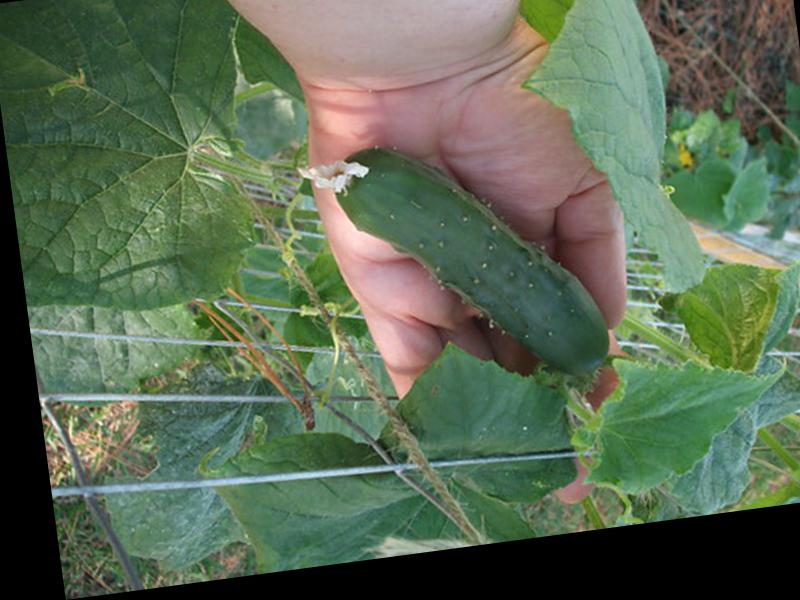Cucumber: (294, 121, 611, 408)
